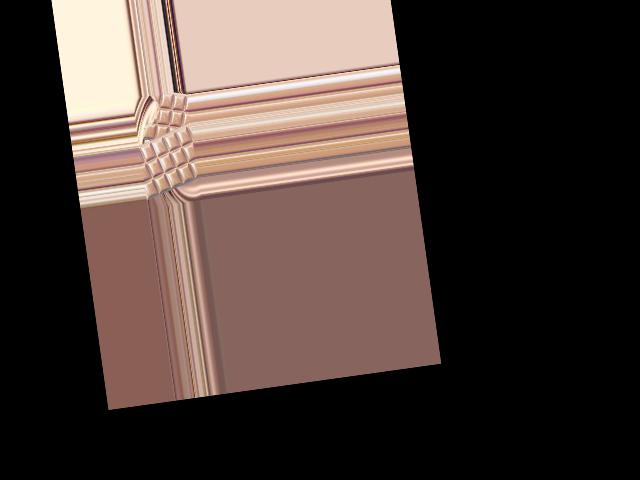chocolate: (137, 122, 201, 201)
